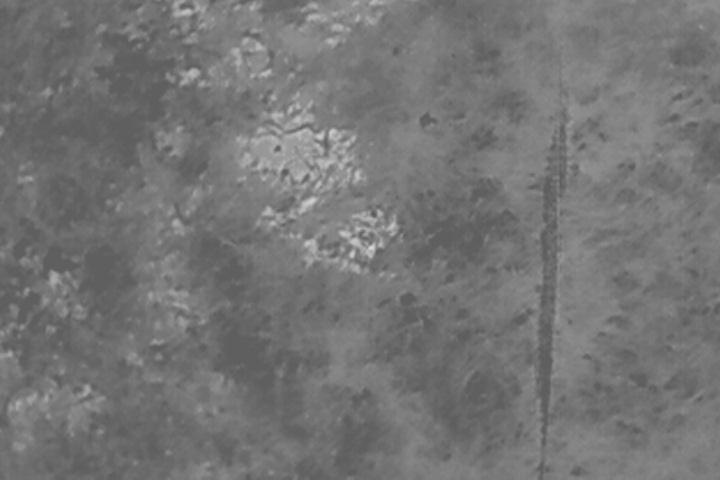landmine: (218, 83, 366, 209)
